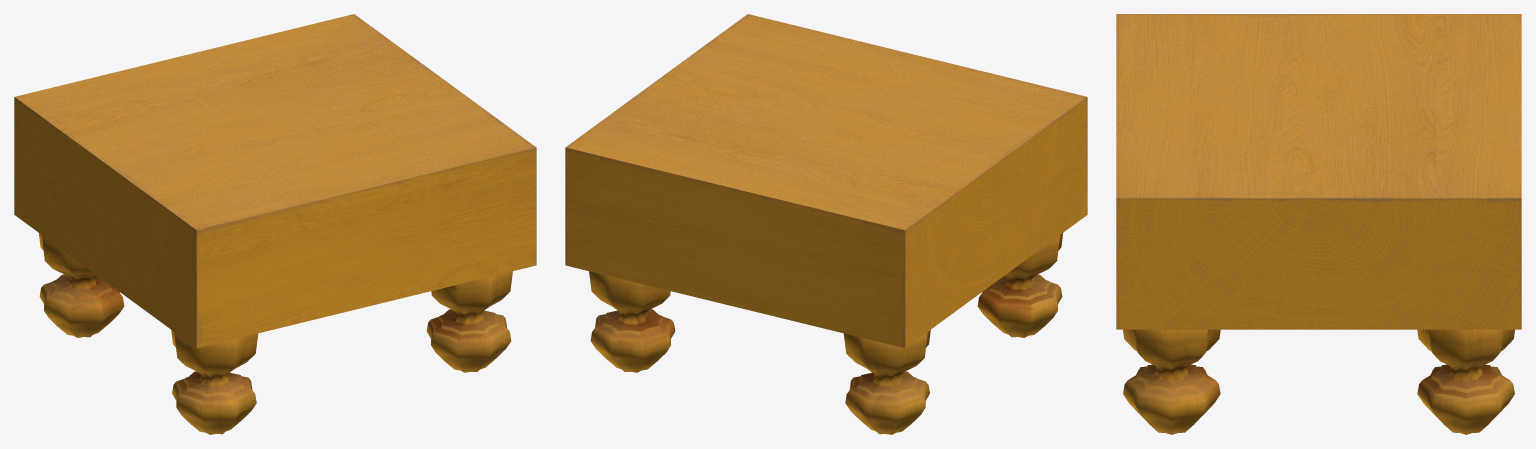
The model's file is Goban_classic_lowPoly.gltf.
3 renders of one model, left to right at view 1: azimuth 30°, elevation 25°; view 2: azimuth 150°, elevation 25°; view 3: azimuth 270°, elevation 25°, orthographic. The views are drawn at different scales.
Visible parts, largest first — view 1: Cube.012; view 2: Cube.012; view 3: Cube.012.
Part boxes in pixels (bbox=[...]): Cube.012: bbox=[14, 14, 536, 434]; Cube.012: bbox=[565, 14, 1087, 434]; Cube.012: bbox=[1116, 14, 1521, 434].
Bounding box in the file's own units: 0.455 × 0.2897 × 0.423.
1 material, 1 textured.
